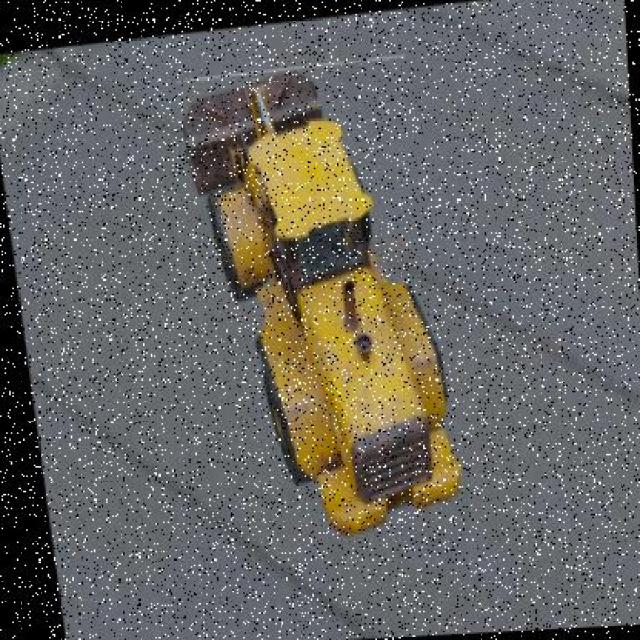buldozerpayloadergrader: (178, 61, 465, 547)
